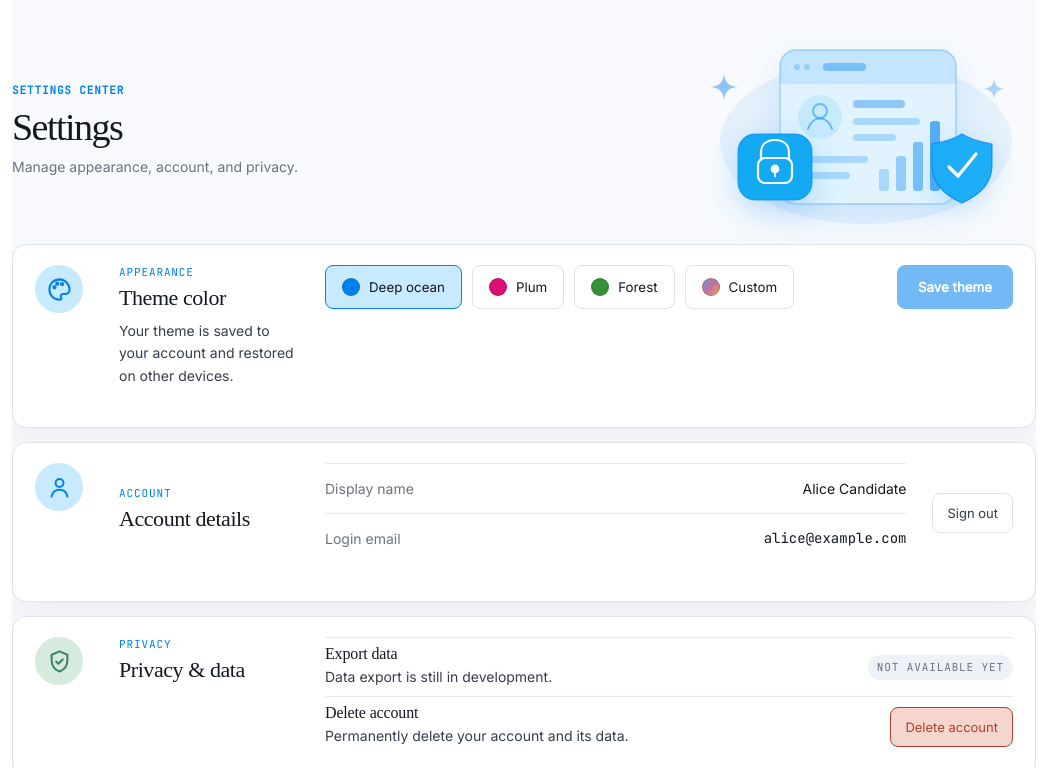
Test: Settings account and privacy contract › keeps preset themes available while the custom color editor expands below them
Click the button with test id "settings-theme-custom" at [739, 287], box [684,265,794,309]
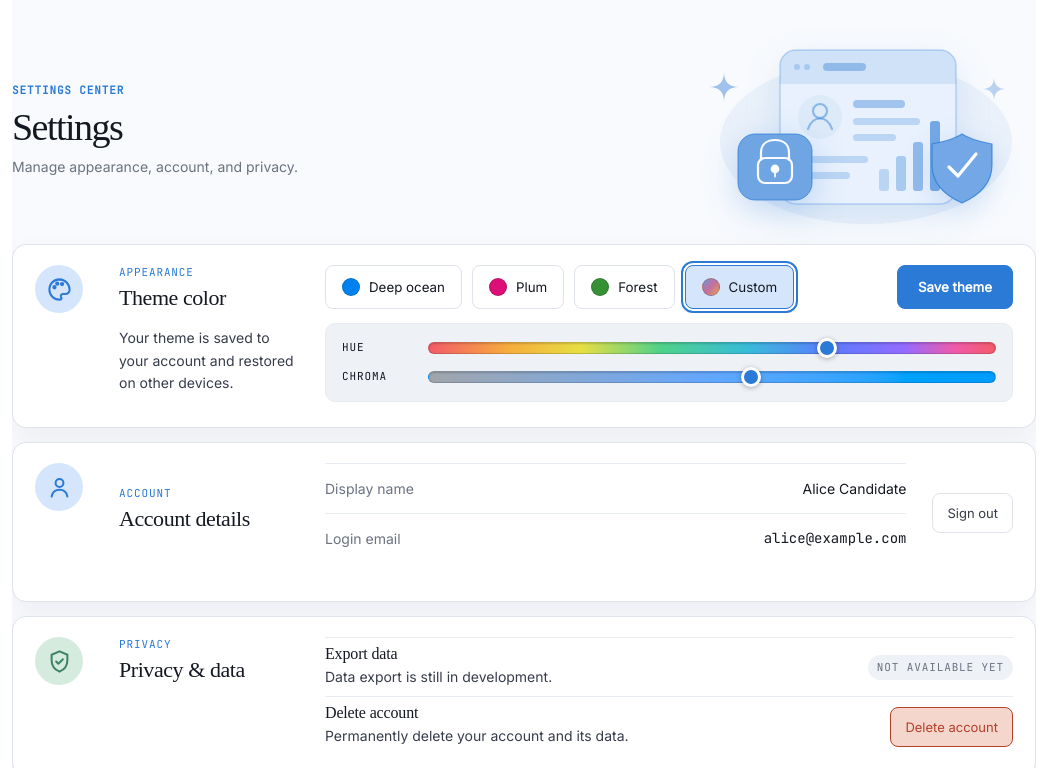
Check: the button with test id "settings-theme-plum" is shown, box [472,265,564,309]
Click the button with test id "settings-theme-forest" at [624, 287], box [574,265,674,309]
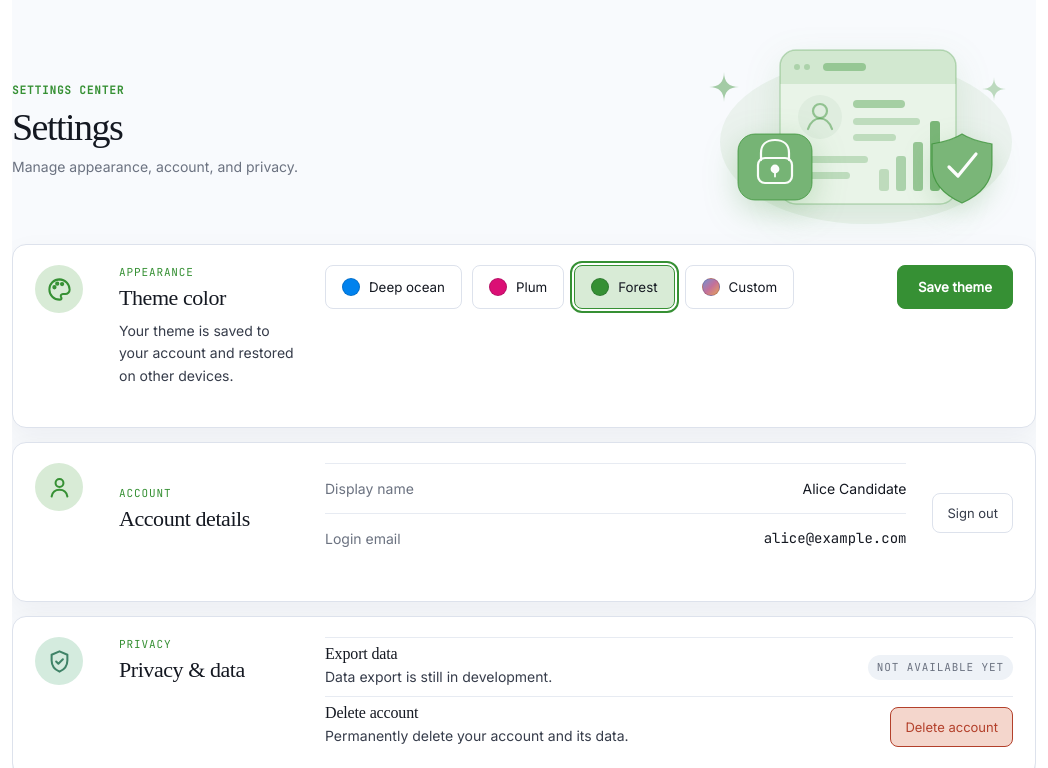
Check: the element with test id "settings-custom-accent" is gone
